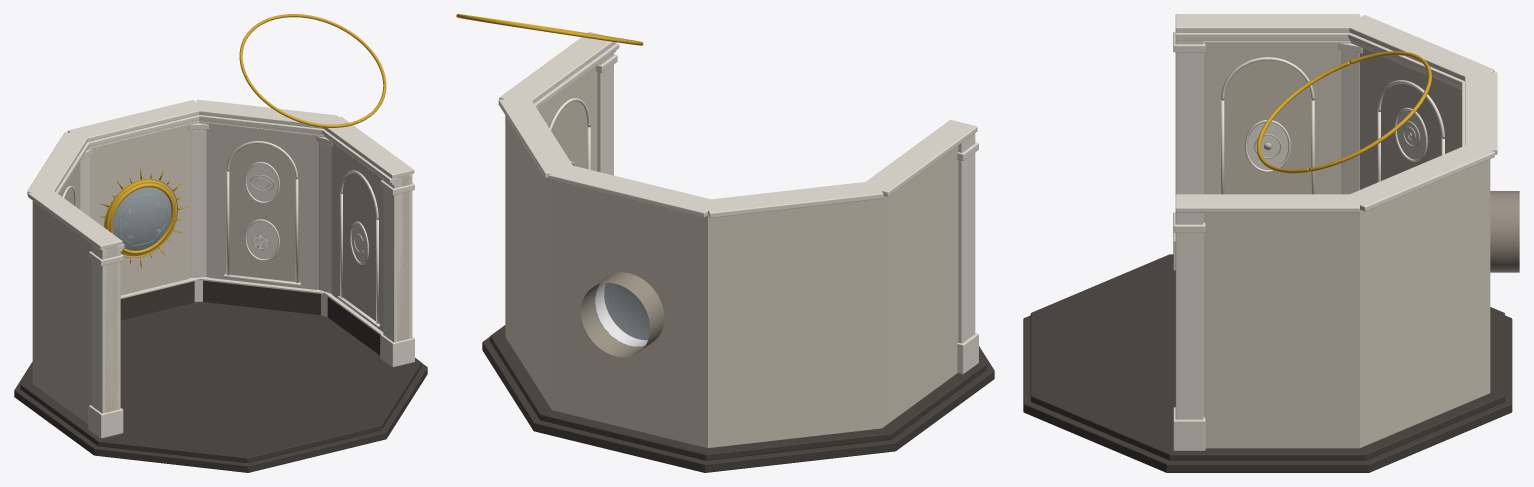
The model's file is espejo.glb.
The picture shows the model from 3 angles, left to right: view 1: azimuth 30°, elevation 25°; view 2: azimuth 150°, elevation 25°; view 3: azimuth 270°, elevation 25°; orthographic projection. The views are drawn at different scales.
Parts seen in each view (by area): view 1: capilla_soporte, capilla_estuco, capilla_moldura, capilla_nichos, espejo_entero, marco_espejo, logos_arco_a, logos_arco_b; view 2: capilla_estuco, capilla_moldura, capilla_soporte, espejo_entero, capilla_nichos, logos_arco_a; view 3: capilla_estuco, capilla_moldura, capilla_soporte, capilla_nichos, logos_arco_a, logos_arco_b.
Boxes of the visible parts, x1,y1,x2,y2 form: capilla_soporte: [14, 280, 427, 472]; capilla_estuco: [32, 124, 409, 424]; capilla_moldura: [27, 99, 414, 438]; capilla_nichos: [64, 143, 375, 320]; espejo_entero: [112, 187, 171, 250]; marco_espejo: [99, 168, 188, 268]; logos_arco_a: [239, 14, 385, 83]; logos_arco_b: [245, 76, 386, 127]; capilla_estuco: [505, 67, 958, 447]; capilla_moldura: [498, 31, 978, 374]; capilla_soporte: [482, 325, 994, 472]; espejo_entero: [604, 283, 650, 340]; capilla_nichos: [551, 101, 587, 168]; logos_arco_a: [456, 14, 628, 43]; capilla_estuco: [1203, 43, 1519, 448]; capilla_moldura: [1173, 14, 1497, 450]; capilla_soporte: [1023, 254, 1512, 472]; capilla_nichos: [1224, 60, 1441, 194]; logos_arco_a: [1308, 51, 1431, 171]; logos_arco_b: [1257, 61, 1350, 173].
Size of the model in its own units: 3.99 by 3.16 by 3.81.
